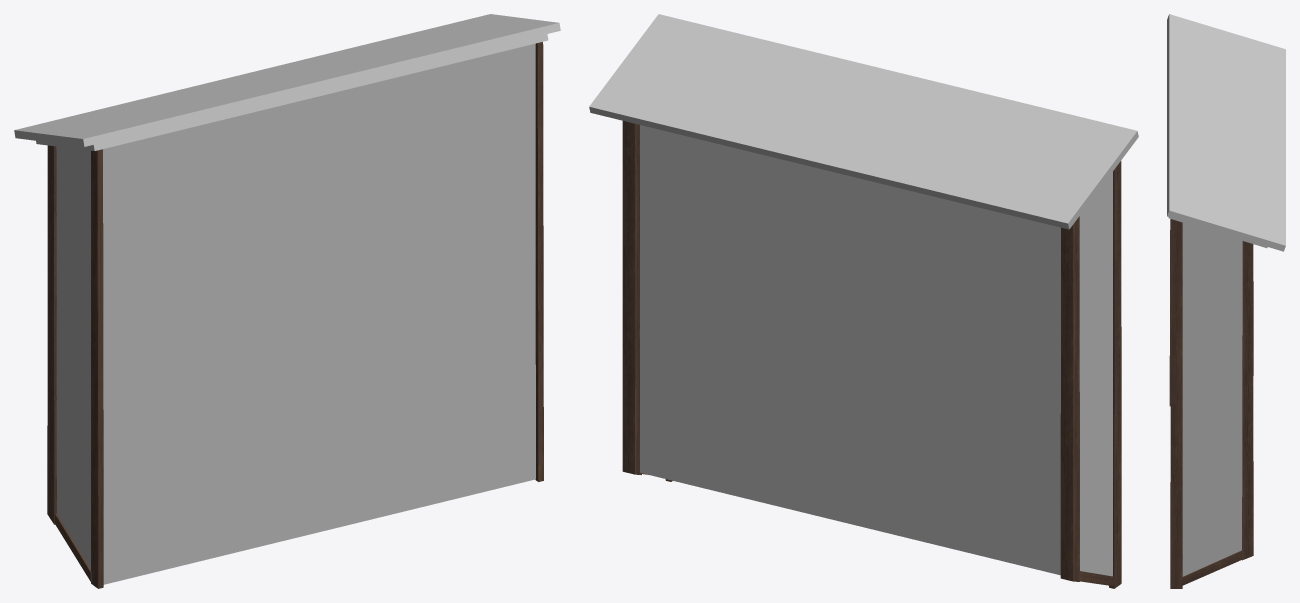
Rendered from jovhouse_window05a.fbx.
3 renders of one model, left to right at view 1: azimuth 30°, elevation 25°; view 2: azimuth 150°, elevation 25°; view 3: azimuth 270°, elevation 25°, orthographic. The views are drawn at different scales.
Parts seen in each view (by area): view 1: jovhouse_window05a; view 2: jovhouse_window05a; view 3: jovhouse_window05a.
Part boxes in pixels (left/top/right/bottom): jovhouse_window05a: left=14, top=14, right=560, bottom=588; jovhouse_window05a: left=589, top=14, right=1138, bottom=588; jovhouse_window05a: left=1167, top=14, right=1285, bottom=588.
Bounding box in the file's own units: 337 × 307 × 86.09.
